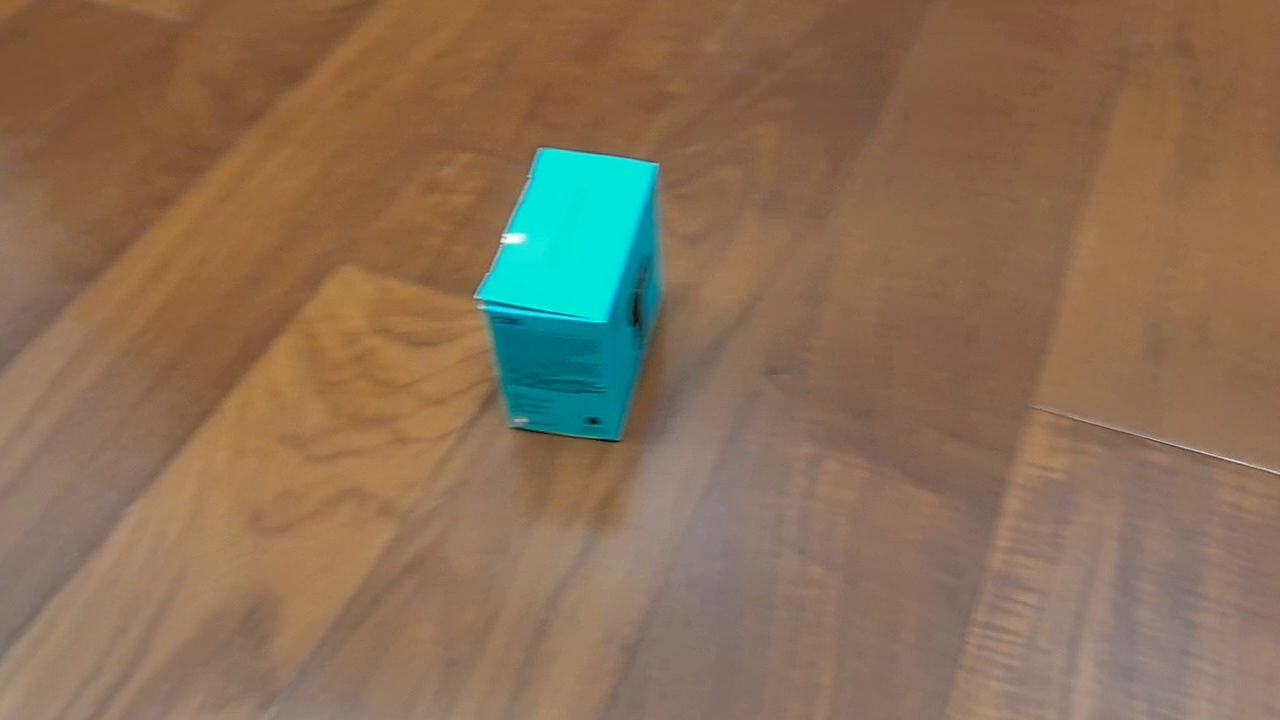webcam: (471, 144, 666, 444)
